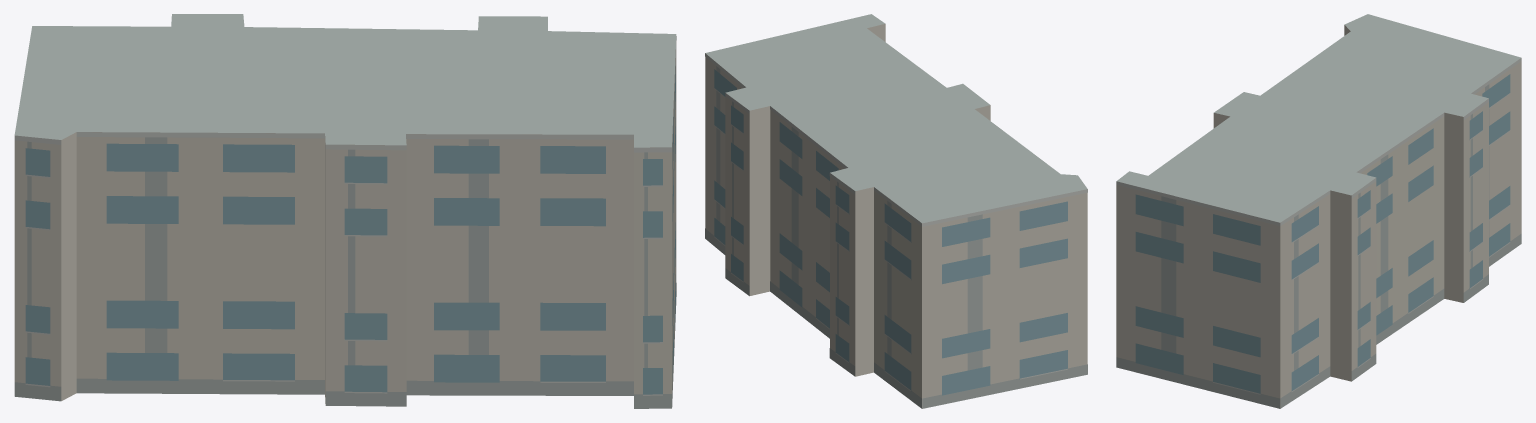
Rendered from survey-upis-32775883.glb.
3 renders of one model, left to right at view 1: azimuth 30°, elevation 25°; view 2: azimuth 150°, elevation 25°; view 3: azimuth 270°, elevation 25°, orthographic. The views are drawn at different scales.
Visible parts, largest first — view 1: survey-upis-32775883.tmp; view 2: survey-upis-32775883.tmp; view 3: survey-upis-32775883.tmp.
Boxes of the visible parts, bbox=[...] form: survey-upis-32775883.tmp: bbox=[14, 14, 676, 408]; survey-upis-32775883.tmp: bbox=[705, 14, 1087, 408]; survey-upis-32775883.tmp: bbox=[1116, 14, 1521, 408].
Size of the model in its own units: 30.96 by 12.87 by 25.39.
